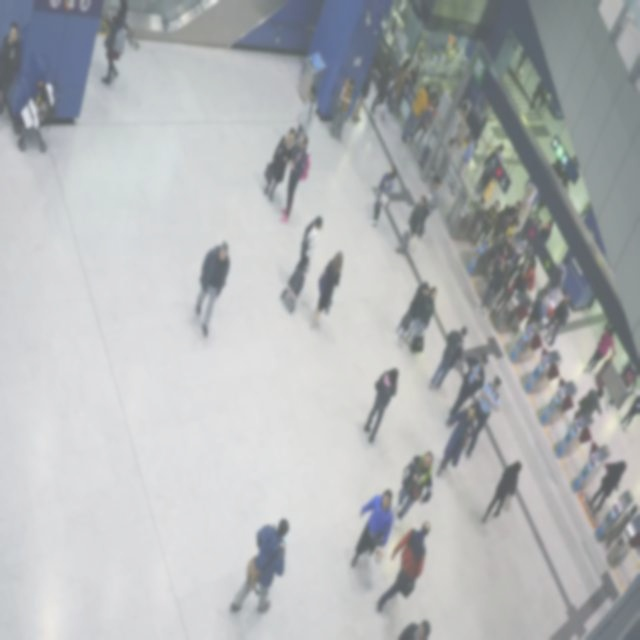pessoa: (230, 516, 290, 614), (374, 518, 431, 614), (351, 486, 394, 570), (195, 238, 230, 338), (392, 449, 434, 531), (445, 350, 488, 428), (466, 372, 502, 460), (436, 401, 476, 479), (428, 324, 468, 394), (280, 132, 310, 224), (262, 126, 298, 202), (363, 366, 398, 444), (482, 458, 522, 524), (100, 0, 130, 87), (392, 280, 430, 348), (586, 458, 626, 518), (313, 250, 344, 326), (0, 20, 21, 130), (403, 285, 438, 348), (394, 193, 427, 256), (490, 261, 524, 319), (295, 214, 323, 284), (368, 162, 398, 226), (582, 320, 616, 375), (400, 81, 430, 143), (476, 143, 506, 204), (330, 74, 356, 142), (416, 172, 442, 240), (479, 252, 507, 315), (470, 198, 500, 254), (542, 252, 570, 311), (408, 94, 439, 146), (351, 62, 376, 126), (428, 136, 457, 188), (513, 172, 538, 232), (387, 56, 411, 118), (532, 196, 558, 252), (294, 82, 318, 142), (544, 294, 570, 349), (504, 240, 534, 286), (502, 225, 528, 278), (550, 152, 580, 195), (370, 60, 392, 115), (525, 286, 551, 330), (512, 255, 538, 298), (491, 232, 514, 276), (498, 198, 520, 240), (578, 386, 606, 418), (620, 394, 640, 434), (24, 94, 49, 126), (490, 202, 510, 240), (527, 78, 547, 114), (397, 618, 432, 638), (462, 130, 478, 170), (382, 80, 398, 115), (514, 46, 528, 82), (444, 38, 456, 70), (409, 61, 421, 87), (522, 216, 533, 241), (416, 36, 428, 55), (630, 368, 636, 383)
